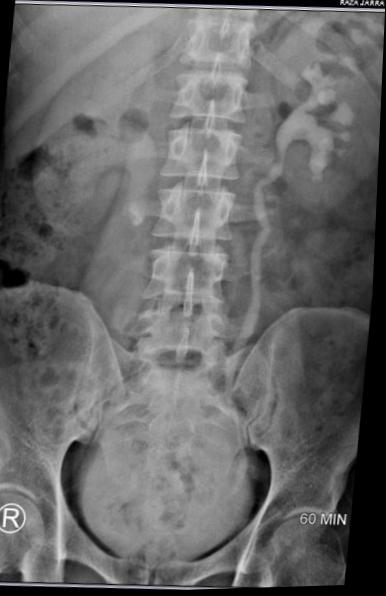left kidney: (258, 42, 383, 209)
vertebrae: (164, 63, 247, 120)
